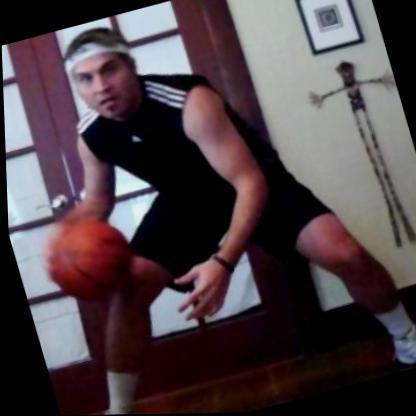basketball: (31, 203, 142, 308)
